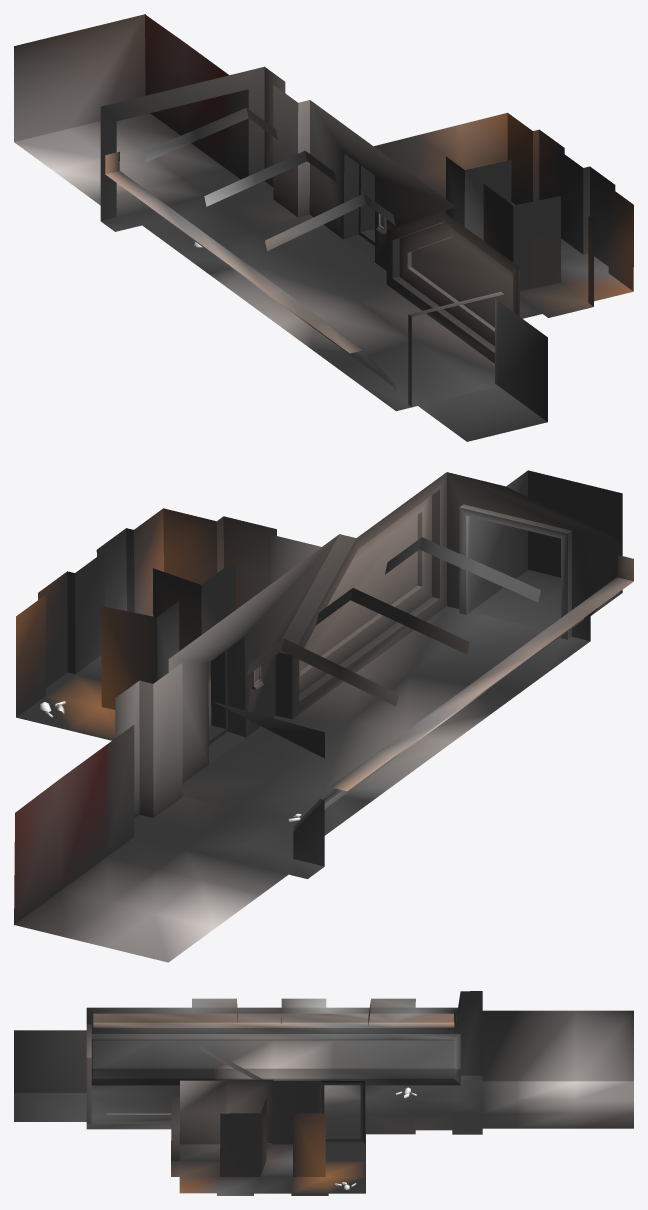
The model's file is inside_corridorC.glb.
The picture shows the model from 3 angles, top to bottom: view 1: azimuth 30°, elevation 25°; view 2: azimuth 150°, elevation 25°; view 3: azimuth 270°, elevation 25°; orthographic projection. The views are drawn at different scales.
Visible parts, largest first — view 1: Plane.004; view 2: Plane.004; view 3: Plane.004.
Part boxes in pixels (<box>): Plane.004: <box>14,14,633,441</box>; Plane.004: <box>14,470,633,962</box>; Plane.004: <box>14,991,633,1195</box>.
Size of the model in its own units: 12.77 by 5.47 by 26.62.
